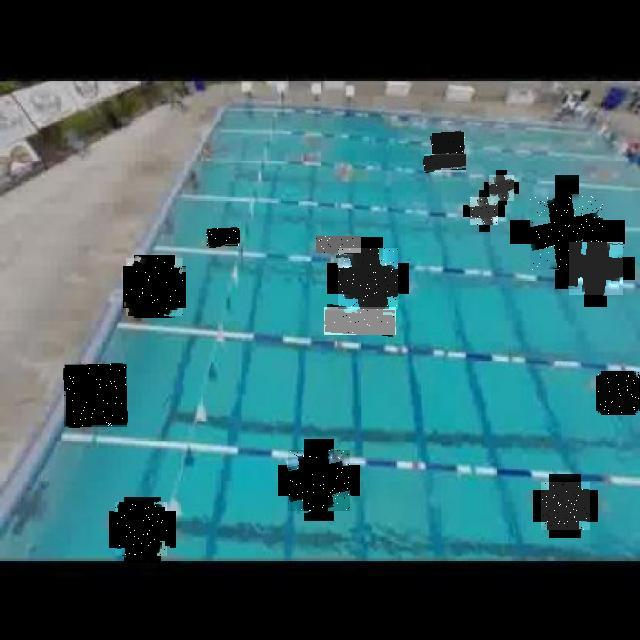swimming: (530, 194, 605, 270), (64, 364, 127, 427), (288, 450, 350, 511), (338, 248, 398, 309), (126, 258, 183, 316), (116, 502, 170, 556), (569, 242, 623, 295), (541, 482, 590, 530), (324, 307, 396, 335), (597, 372, 639, 414), (470, 197, 498, 225), (431, 132, 465, 155), (316, 236, 361, 253), (424, 154, 466, 172), (489, 175, 514, 201), (206, 228, 240, 247)
